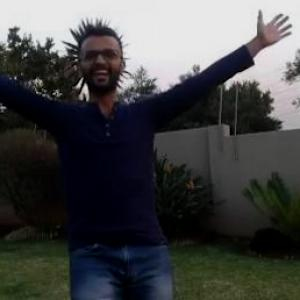takeoff: (1, 24, 271, 299)
